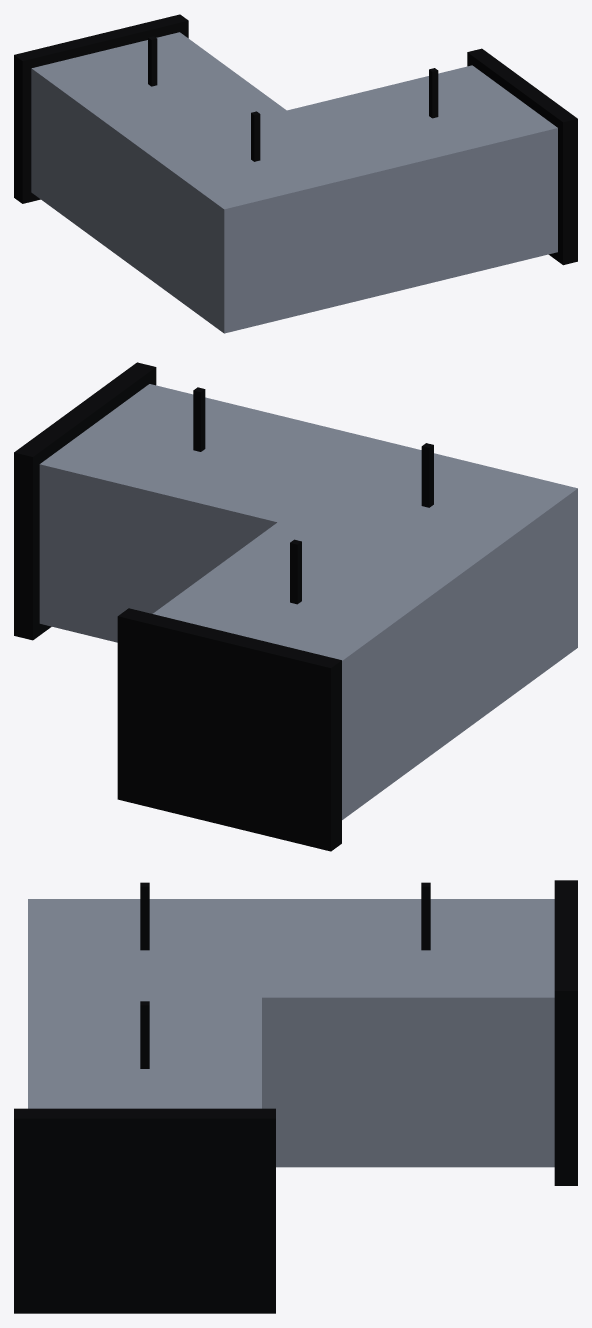
File: SM_Duct_Elbow.glb
The picture shows the model from 3 angles, top to bottom: view 1: azimuth 30°, elevation 25°; view 2: azimuth 150°, elevation 25°; view 3: azimuth 270°, elevation 25°; orthographic projection. The views are drawn at different scales.
Parts seen in each view (by area): view 1: SM_Duct_Elbow-col; view 2: SM_Duct_Elbow-col; view 3: SM_Duct_Elbow-col.
Boxes of the visible parts, x1,y1,x2,y2 form: SM_Duct_Elbow-col: [14, 14, 577, 333]; SM_Duct_Elbow-col: [14, 362, 577, 851]; SM_Duct_Elbow-col: [14, 880, 577, 1313].
Bounding box in the file's own units: 1.2 × 0.605 × 1.2.
